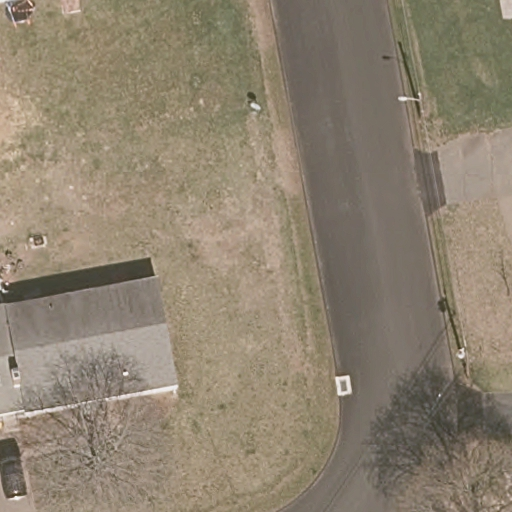DT: (455, 339, 473, 379), (397, 91, 425, 116)
